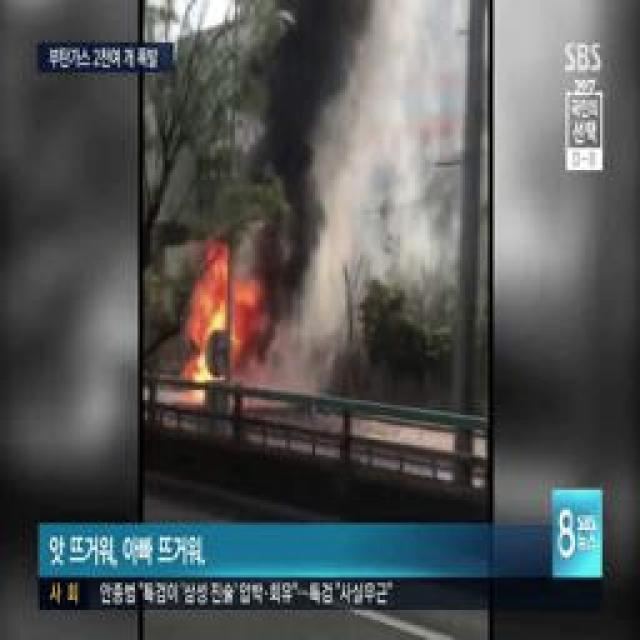fire: (176, 222, 263, 407)
